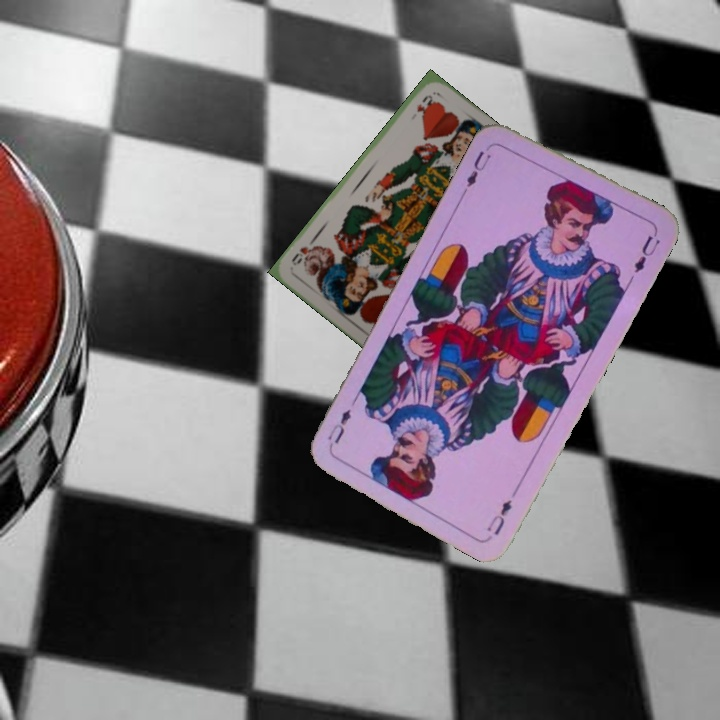EU: (462, 140, 497, 194), (482, 495, 514, 538)
HO: (412, 91, 435, 115)
